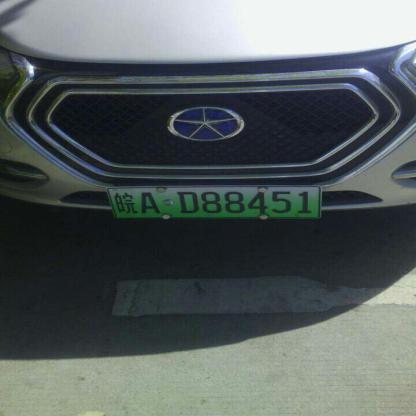lp: (105, 186, 321, 219)
